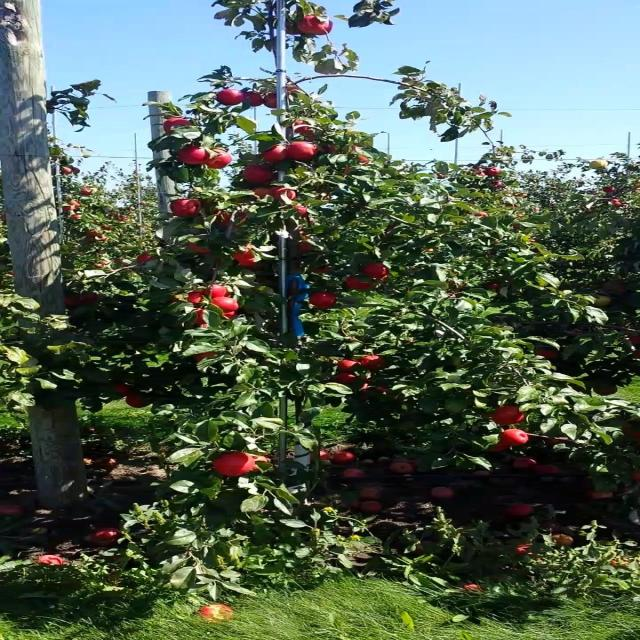apple: (212, 452, 254, 477), (490, 408, 526, 425), (170, 200, 204, 217), (241, 168, 274, 184), (205, 152, 235, 169), (177, 148, 206, 164), (362, 264, 391, 280), (305, 20, 334, 36), (291, 144, 318, 161), (298, 16, 322, 35), (362, 384, 389, 400), (234, 248, 256, 267), (312, 292, 338, 308), (262, 148, 288, 164), (348, 276, 375, 291), (504, 432, 532, 446), (269, 188, 299, 201), (163, 120, 192, 133), (220, 212, 249, 225), (212, 300, 242, 312), (220, 92, 242, 106), (362, 356, 384, 369), (184, 292, 206, 305), (212, 284, 231, 297), (248, 92, 263, 108), (113, 384, 133, 396), (319, 20, 334, 36), (625, 424, 639, 441), (63, 296, 84, 307), (262, 96, 281, 108), (127, 396, 146, 408), (255, 456, 270, 471), (191, 244, 213, 254), (333, 376, 357, 385), (340, 360, 357, 372), (84, 292, 100, 304), (134, 256, 155, 265), (319, 144, 336, 155), (596, 388, 619, 396), (255, 188, 270, 199), (540, 352, 560, 360), (198, 308, 208, 323), (291, 208, 309, 216), (490, 444, 508, 452), (220, 312, 238, 320), (298, 244, 313, 253), (298, 120, 309, 131), (298, 124, 311, 133), (312, 268, 331, 274), (362, 156, 370, 164), (632, 336, 639, 344), (198, 356, 206, 360)
